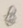microplastic: (3, 4, 18, 26)
